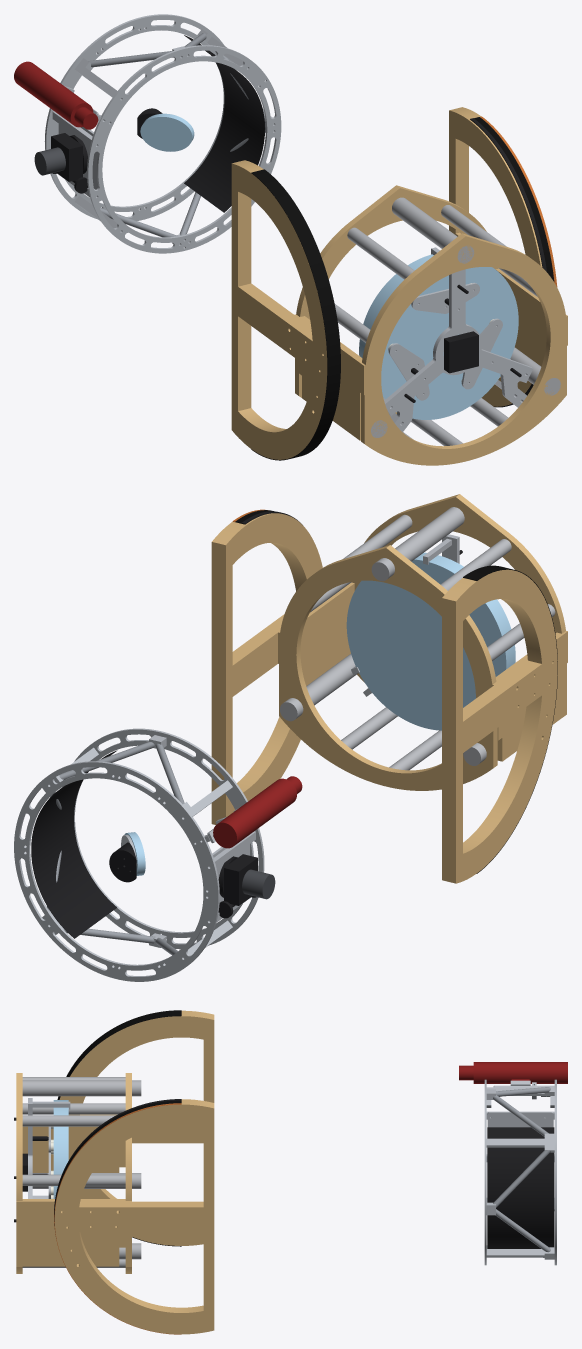
The picture shows the model from 3 angles, top to bottom: view 1: azimuth 30°, elevation 25°; view 2: azimuth 150°, elevation 25°; view 3: azimuth 270°, elevation 25°; orthographic projection. The views are drawn at different scales.
Parts seen in each view (by area): view 1: mirror_cage, alt_bearing_plain, primary_mirror, cage_ring_lower, mirror_cage_tubes, baffle, alt_bearing_drive, cell_frame, cage_ring_upper, ebony_plain, cell_triangles, cage_waypoint_finder (+8 smaller); view 2: mirror_cage, alt_bearing_plain, primary_mirror, alt_bearing_drive, cage_ring_upper, mirror_cage_tubes, baffle, cage_ring_lower, cage_waypoint_finder, cage_diagonal_tubes, feather_touch, cage_struts (+3 smaller); view 3: alt_bearing_drive, mirror_cage, alt_bearing_plain, baffle, mirror_cage_tubes, cage_waypoint_finder, cage_diagonal_tubes, cage_struts, primary_mirror, cage_focuser_board, ebony_plain, cage_ring_lower (+4 smaller).
Part boxes in pixels (left/top/right/bottom): mirror_cage: left=294, top=185, right=567, bottom=465; alt_bearing_plain: left=231, top=160, right=327, bottom=459; primary_mirror: left=359, top=254, right=518, bottom=419; cage_ring_lower: left=87, top=45, right=281, bottom=253; mirror_cage_tubes: left=334, top=197, right=560, bottom=445; baffle: left=184, top=35, right=264, bottom=212; alt_bearing_drive: left=449, top=107, right=542, bottom=406; cell_frame: left=384, top=269, right=532, bottom=432; cage_ring_upper: left=44, top=14, right=231, bottom=221; ebony_plain: left=251, top=169, right=340, bottom=460; cell_triangles: left=388, top=282, right=502, bottom=400; cage_waypoint_finder: left=14, top=61, right=98, bottom=129; mirror_cage: left=278, top=494, right=567, bottom=790; alt_bearing_plain: left=442, top=569, right=557, bottom=883; primary_mirror: left=346, top=552, right=515, bottom=730; alt_bearing_drive: left=211, top=513, right=322, bottom=824; cage_ring_upper: left=14, top=761, right=219, bottom=981; mirror_cage_tubes: left=280, top=507, right=555, bottom=770; baffle: left=31, top=750, right=117, bottom=938; cage_ring_lower: left=74, top=728, right=264, bottom=949; cage_waypoint_finder: left=213, top=776, right=302, bottom=848; cage_diagonal_tubes: left=47, top=742, right=184, bottom=955; feather_touch: left=218, top=854, right=257, bottom=918; cage_struts: left=49, top=747, right=232, bottom=958; alt_bearing_drive: left=54, top=1099, right=214, bottom=1334; mirror_cage: left=16, top=1073, right=131, bottom=1273; alt_bearing_plain: left=59, top=1010, right=214, bottom=1245; baffle: left=487, top=1127, right=554, bottom=1248; mirror_cage_tubes: left=22, top=1077, right=141, bottom=1267; cage_waypoint_finder: left=459, top=1062, right=567, bottom=1083; cage_diagonal_tubes: left=493, top=1087, right=550, bottom=1257; cage_struts: left=486, top=1087, right=554, bottom=1257; primary_mirror: left=53, top=1100, right=68, bottom=1198; cage_focuser_board: left=487, top=1112, right=553, bottom=1127; ebony_plain: left=57, top=1010, right=181, bottom=1246; cage_ring_lower: left=484, top=1079, right=486, bottom=1265.
Size of the model in its own units: 642 by 716 by 1553.
